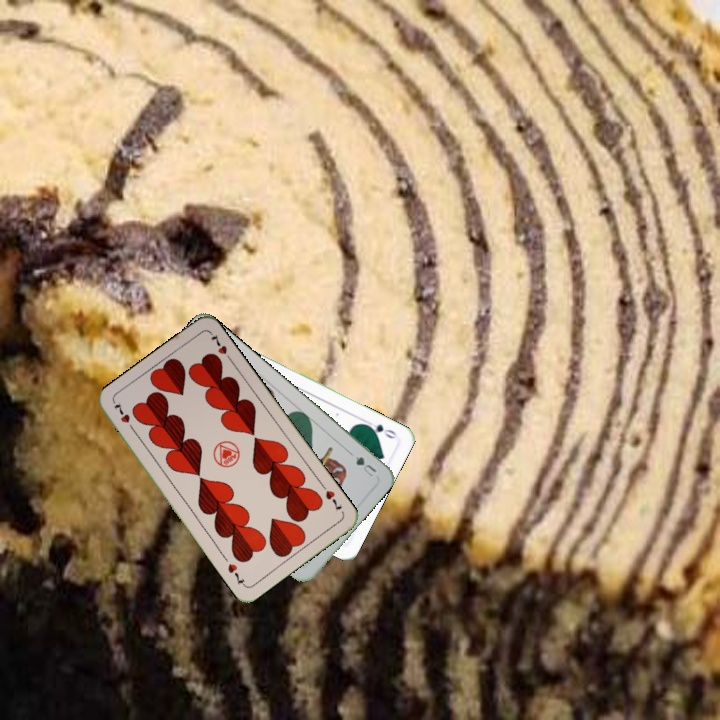GO: (360, 416, 399, 441)
GU: (351, 452, 379, 479)
H7: (110, 399, 138, 435), (317, 480, 345, 514)
